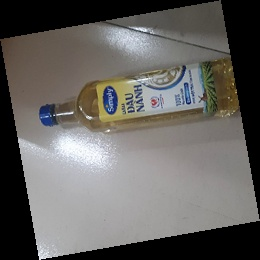Simply: (36, 56, 242, 133)
